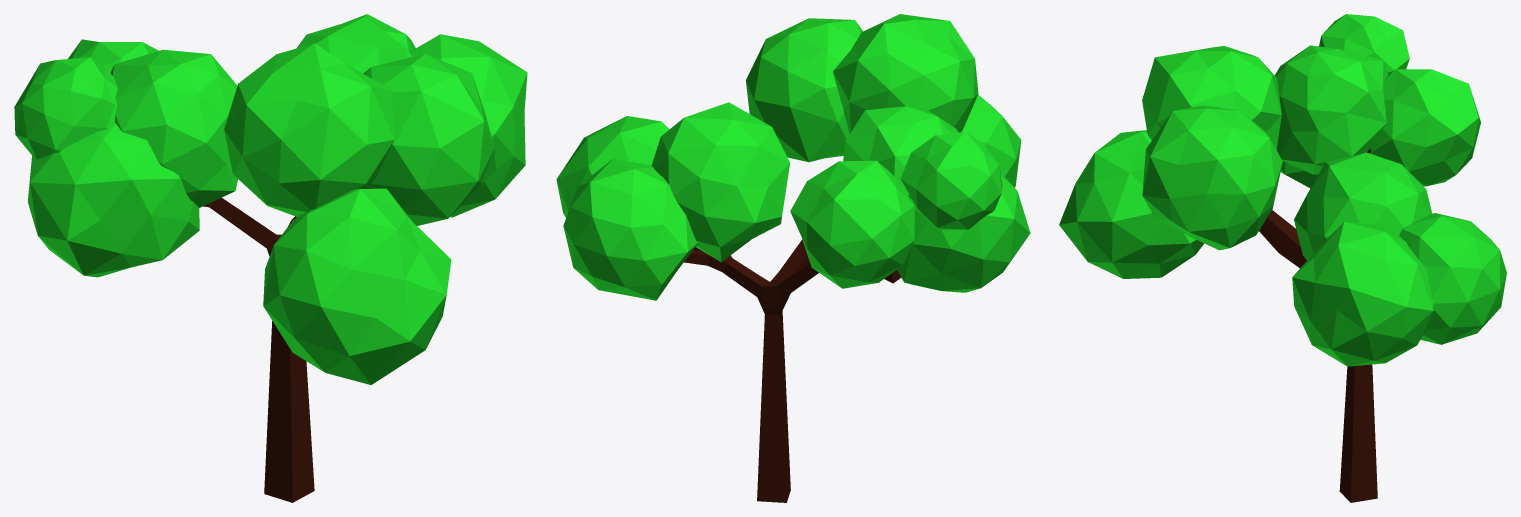
Rendered from tree1_v2.fbx.
The picture shows the model from 3 angles, left to right: view 1: azimuth 30°, elevation 25°; view 2: azimuth 150°, elevation 25°; view 3: azimuth 270°, elevation 25°; orthographic projection. The views are drawn at different scales.
Parts seen in each view (by area): view 1: Plane; view 2: Plane; view 3: Plane.
Boxes of the visible parts, left/top/right/bottom form: Plane: left=14, top=14, right=527, bottom=502; Plane: left=556, top=14, right=1030, bottom=502; Plane: left=1059, top=14, right=1506, bottom=502.
Size of the model in its own units: 1101 by 1070 by 1027.
